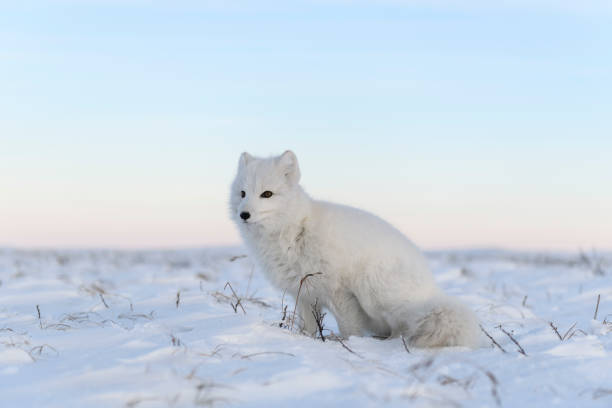arcticfox: (229, 169, 287, 233)
